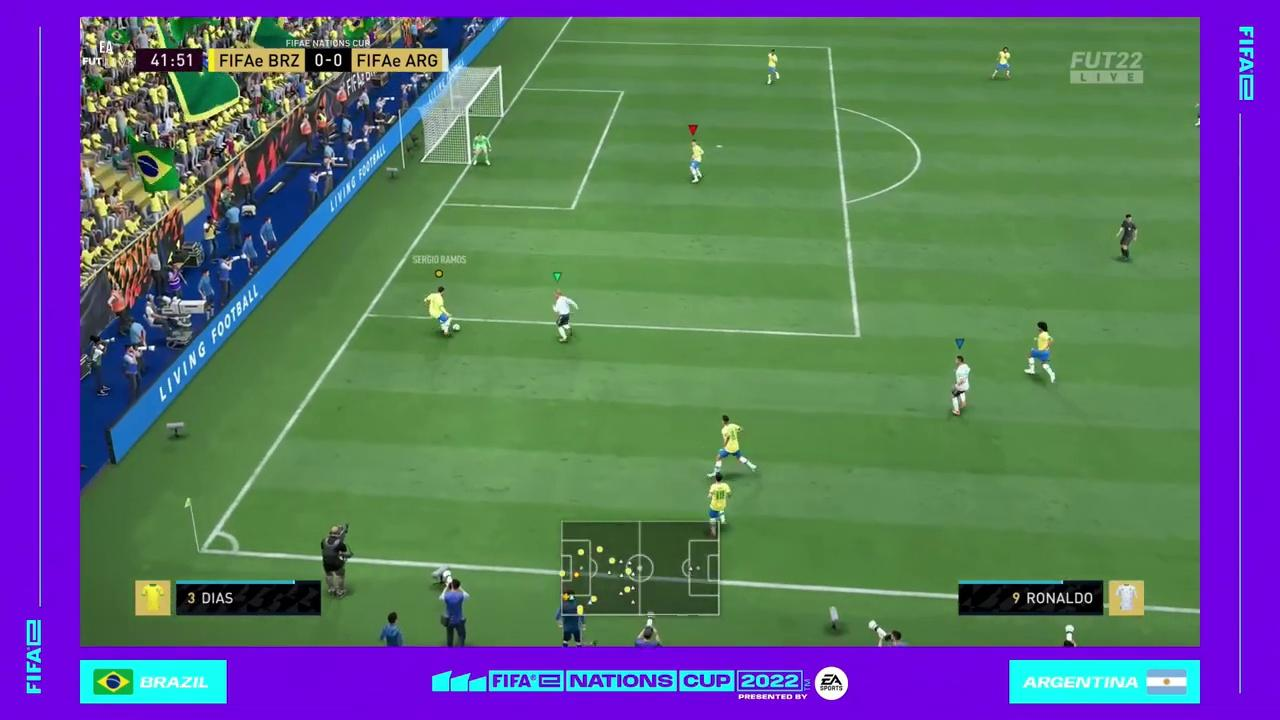scoreboard: (209, 50, 448, 73)
timestamp: (138, 49, 204, 71)
